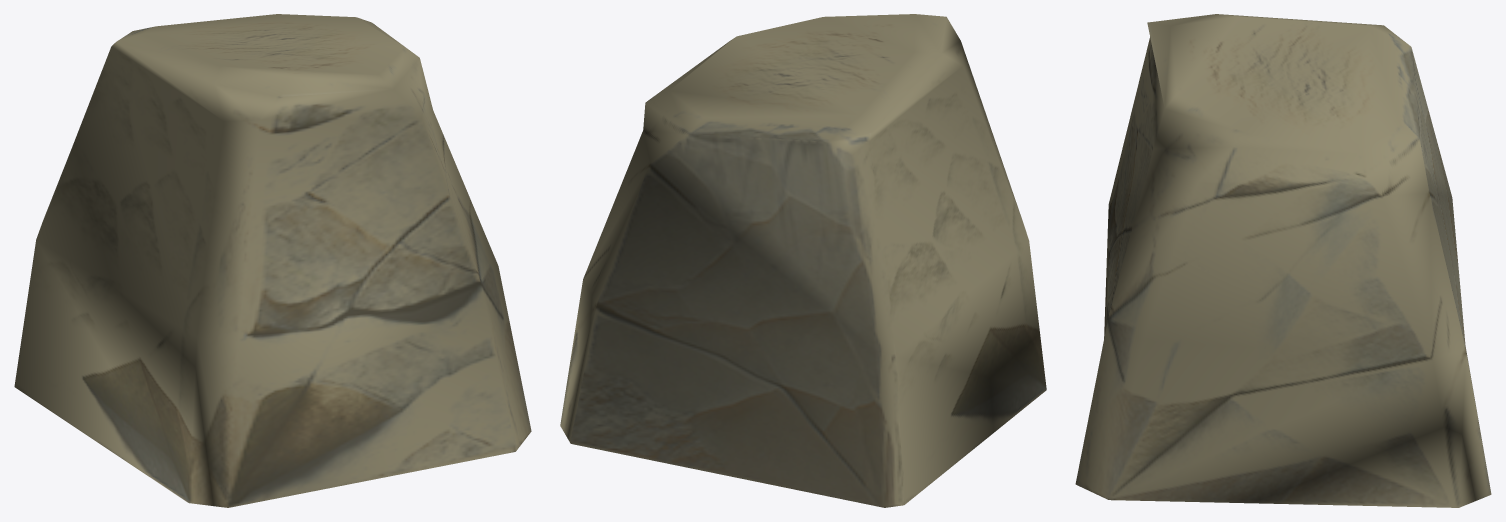
Rendered from Stone_1.fbx.
The picture shows the model from 3 angles, left to right: view 1: azimuth 30°, elevation 25°; view 2: azimuth 150°, elevation 25°; view 3: azimuth 270°, elevation 25°; orthographic projection. The views are drawn at different scales.
Visible parts, largest first — view 1: Stone_1; view 2: Stone_1; view 3: Stone_1.
Boxes of the visible parts, x1=… form: Stone_1: x1=14, y1=14, x2=531, y2=507; Stone_1: x1=560, y1=14, x2=1046, y2=507; Stone_1: x1=1075, y1=14, x2=1491, y2=507.
Bounding box in the file's own units: 194 × 198 × 200.
Materials: 1 (1 with a texture image).
